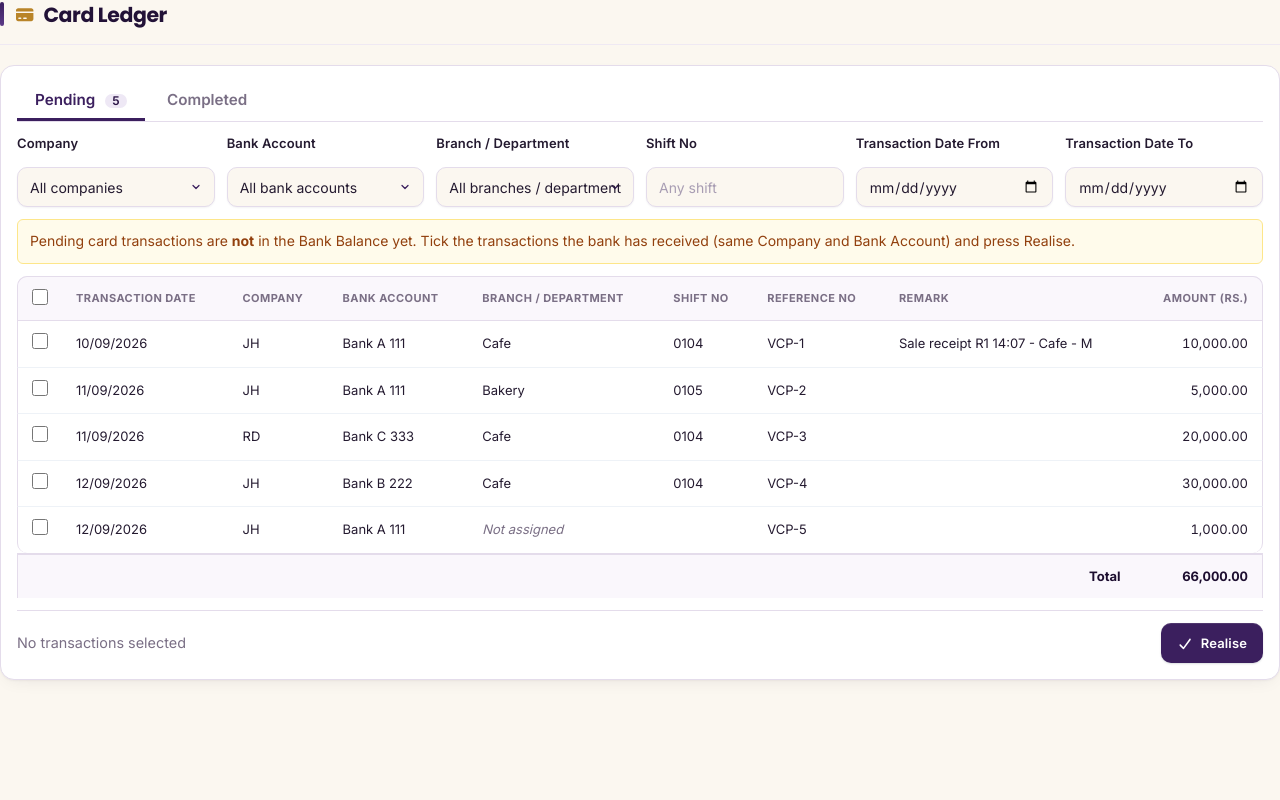
Test: CardLedger page › Realise form: fields in order, rate + commission from Credit Card Rate, calculated fields read-only
Check: the text "VCP-1" is shown, box 753,321 -> 885,368
Click the checkbox named "Select card transaction VCP-1": (40, 341) 32,333 -> 48,349
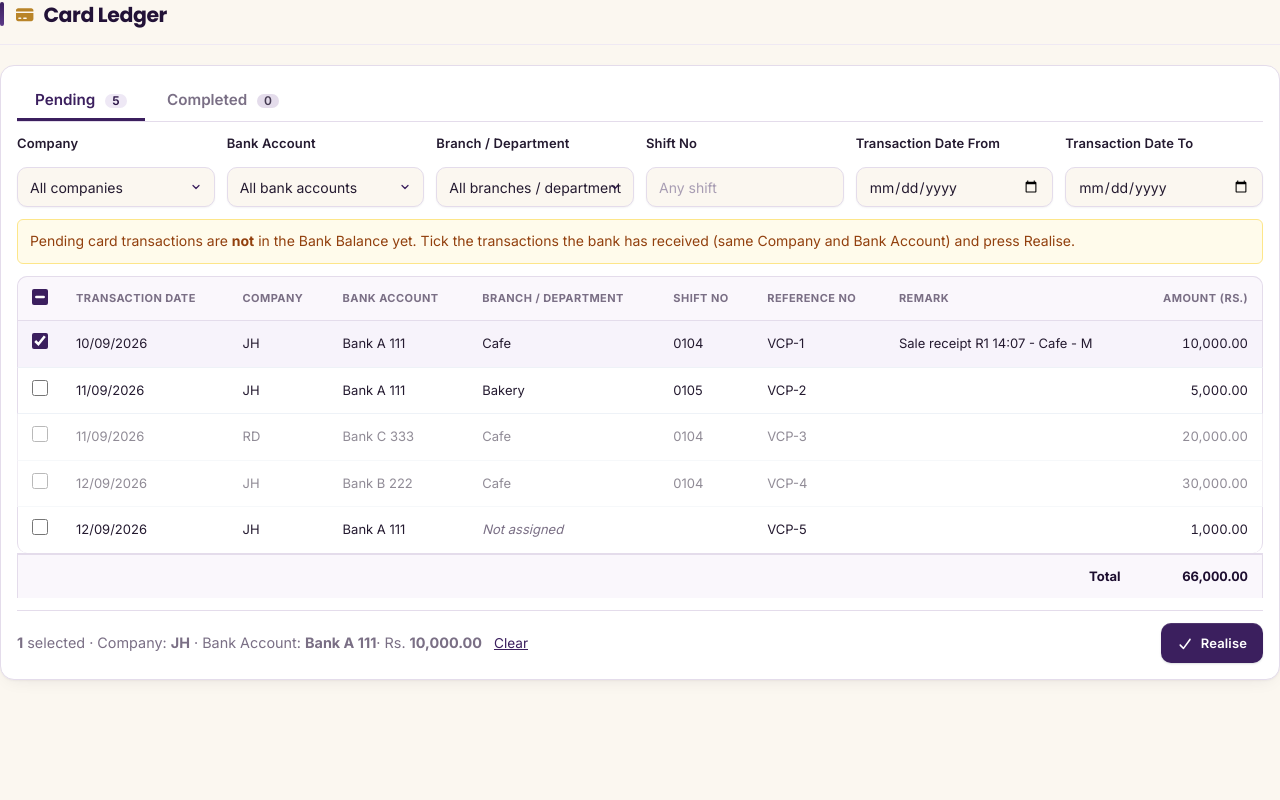
Click the button "Realise": (1212, 643) 1161,623 -> 1263,663
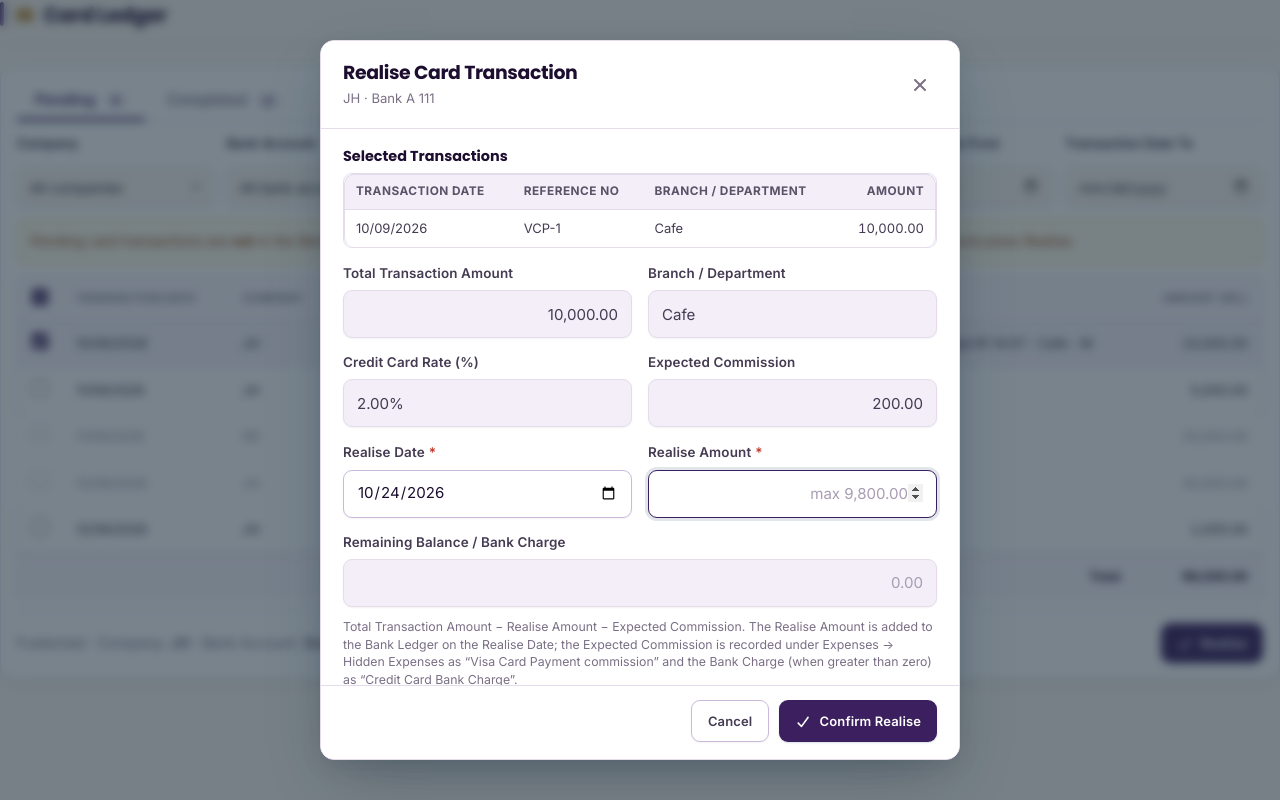
Check: the field labelled "Credit Card Rate (%)" does not hold "Loading...", box 343,379 -> 632,427
Check: the field labelled "Total Transaction Amount" holds "10,000.00", box 343,290 -> 632,338
Check: the field labelled "Branch / Department" holds "Cafe", box 648,290 -> 937,338
